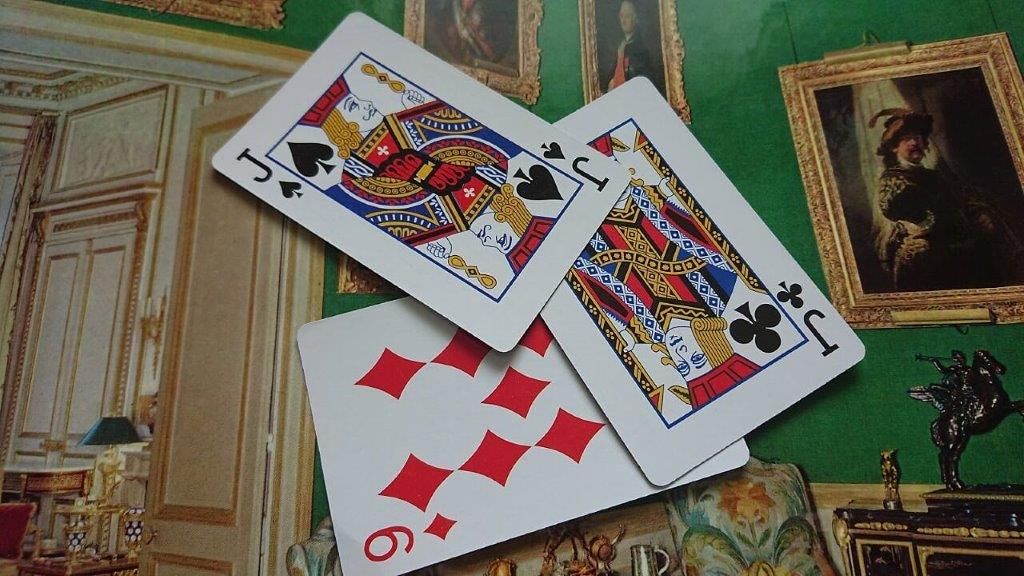JS: (233, 144, 305, 202)
